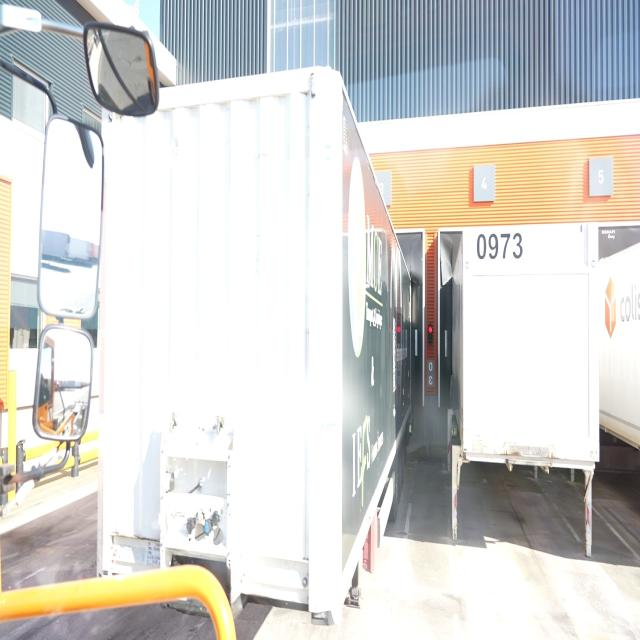Code: (474, 225, 525, 267)
